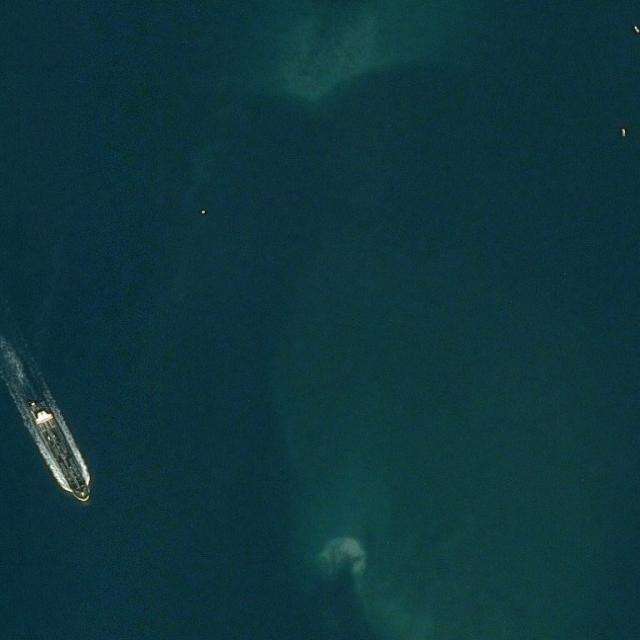Oil Tanker: (24, 391, 98, 509)
